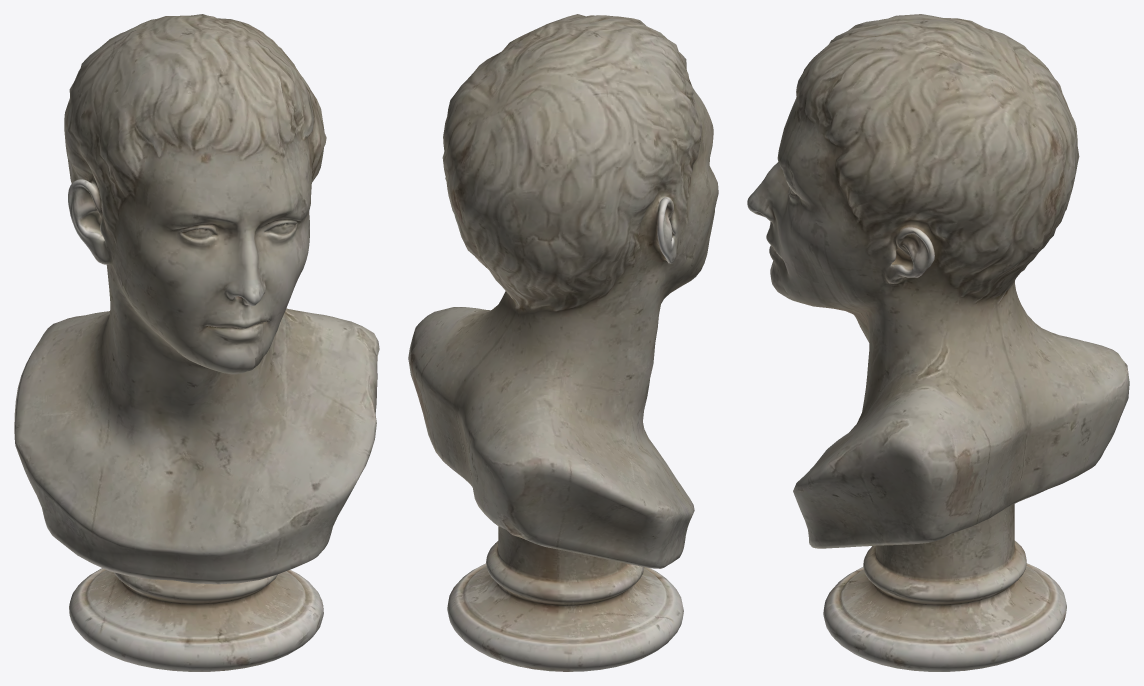
File: marble-bust.glb
3 views of the same model, side by side, from view 1: azimuth 30°, elevation 25°; view 2: azimuth 150°, elevation 25°; view 3: azimuth 270°, elevation 25° (orthographic). The views are drawn at different scales.
Parts seen in each view (by area): view 1: marble_bust_01; view 2: marble_bust_01; view 3: marble_bust_01.
Part boxes in pixels (box(x1,y1,x2,y2)): marble_bust_01: box(14, 14, 379, 671); marble_bust_01: box(408, 14, 718, 671); marble_bust_01: box(747, 14, 1129, 671).
Size of the model in its own units: 0.2717 by 0.5149 by 0.2997.
1 material, 1 textured.
